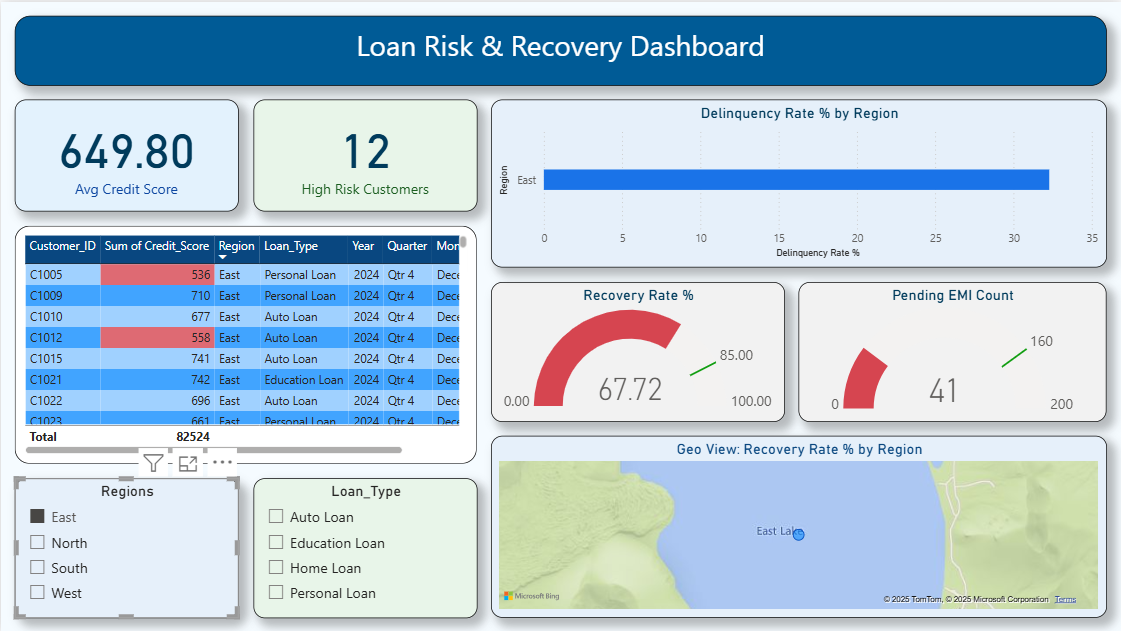

The dashboard page shown, as its layout file describes it:
{"tool":"powerbi","page":{"name":"Page 1","canvas":[1280,720],"ordinal":0},"visuals":[{"type":"textbox","box":[16,16,1248,80],"z":0},{"type":"card","fields":{"Values":["Loan_Risk_Recovery_Dataset.High Risk Customers"]},"box":[288,112,256,128],"z":1000},{"type":"gauge","fields":{"Y":["Loan_Risk_Recovery_Dataset.Recovery Rate %"]},"box":[560,320,336,160],"z":2000},{"type":"card","fields":{"Values":["Loan_Risk_Recovery_Dataset.Avg Credit Score"]},"box":[16,112,256,128],"z":3000},{"type":"clusteredBarChart","fields":{"Y":["Loan_Risk_Recovery_Dataset.Delinquency Rate %"],"Category":["Loan_Risk_Recovery_Dataset.Region"]},"box":[560,112,704,192],"z":4000},{"type":"tableEx","fields":{"Values":["Loan_Risk_Recovery_Dataset.Customer_ID","Sum(Loan_Risk_Recovery_Dataset.Credit_Score)","Loan_Risk_Recovery_Dataset.Region","Loan_Risk_Recovery_Dataset.Loan_Type","Loan_Risk_Recovery_Dataset.EMI_Due.Variation.Date Hierarchy.Year","Loan_Risk_Recovery_Dataset.EMI_Due.Variation.Date Hierarchy.Quarter","Loan_Risk_Recovery_Dataset.EMI_Due.Variation.Date Hierarchy.Month","Loan_Risk_Recovery_Dataset.EMI_Due.Variation.Date Hierarchy.Day"]},"box":[16,256,528,272],"z":5000},{"type":"slicer","title":"Regions","fields":{"Values":["Loan_Risk_Recovery_Dataset.Region"]},"box":[16,544,256,160],"z":6000},{"type":"slicer","title":"Loan_Type","fields":{"Values":["Loan_Risk_Recovery_Dataset.Loan_Type"]},"box":[288,544,256,160],"z":7000},{"type":"gauge","fields":{"Y":["Loan_Risk_Recovery_Dataset.Pending EMI Count"]},"box":[912,320,352,160],"z":8000},{"type":"map","title":"Geo View: Recovery Rate % by Region","fields":{"Category":["Loan_Risk_Recovery_Dataset.Region"],"Size":["Loan_Risk_Recovery_Dataset.Recovery Rate %"]},"box":[560,496,704,208],"z":9000}]}

Visuals, with their boxes in screenshot pixels (x1, y1, x2, y2), scaled from the page's 1280x720 canvas onto the 1121x631 screenshot:
textbox: l=14, t=14, r=1107, b=84
card - Loan_Risk_Recovery_Dataset.High Risk Customers: l=252, t=98, r=476, b=210
gauge - Loan_Risk_Recovery_Dataset.Recovery Rate %: l=490, t=280, r=785, b=421
card - Loan_Risk_Recovery_Dataset.Avg Credit Score: l=14, t=98, r=238, b=210
clusteredBarChart - Loan_Risk_Recovery_Dataset.Delinquency Rate % x Loan_Risk_Recovery_Dataset.Region: l=490, t=98, r=1107, b=266
tableEx - Loan_Risk_Recovery_Dataset.Customer_ID x Sum(Loan_Risk_Recovery_Dataset.Credit_Score): l=14, t=224, r=476, b=463
"Regions" slicer: l=14, t=477, r=238, b=617
"Loan_Type" slicer: l=252, t=477, r=476, b=617
gauge - Loan_Risk_Recovery_Dataset.Pending EMI Count: l=799, t=280, r=1107, b=421
"Geo View: Recovery Rate % by Region" map: l=490, t=435, r=1107, b=617
